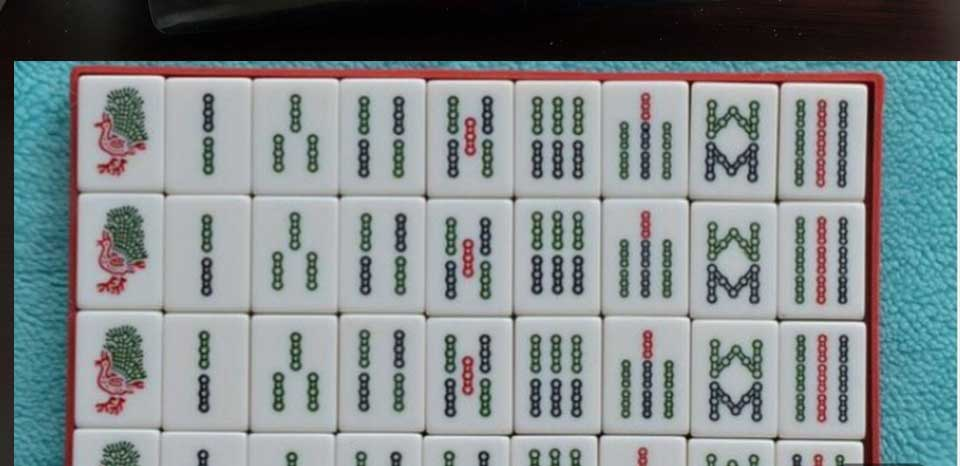sou_1: (77, 78, 161, 188)
sou_2: (163, 76, 249, 197)
sou_3: (250, 78, 340, 195)
sou_4: (340, 76, 424, 201)
sou_5: (429, 79, 511, 199)
sou_6: (515, 78, 606, 197)
sou_7: (609, 81, 693, 199)
sou_8: (697, 83, 782, 203)
sou_9: (781, 85, 872, 203)
